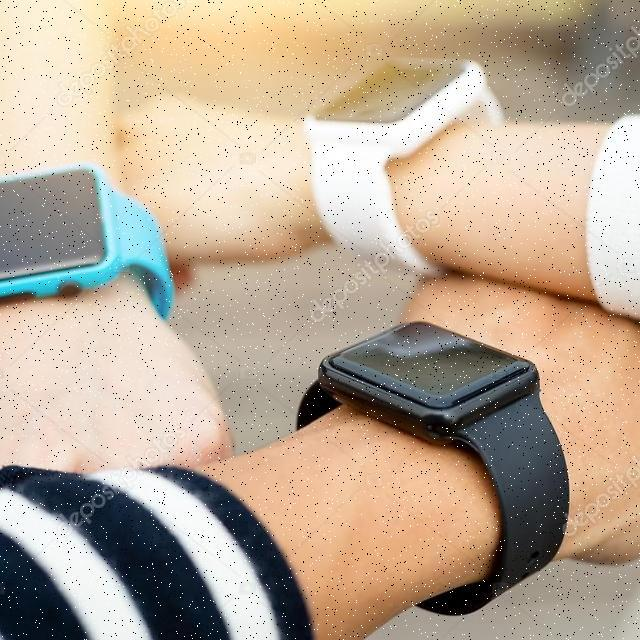watch: (287, 287, 580, 615), (2, 128, 210, 374), (290, 8, 515, 227)
